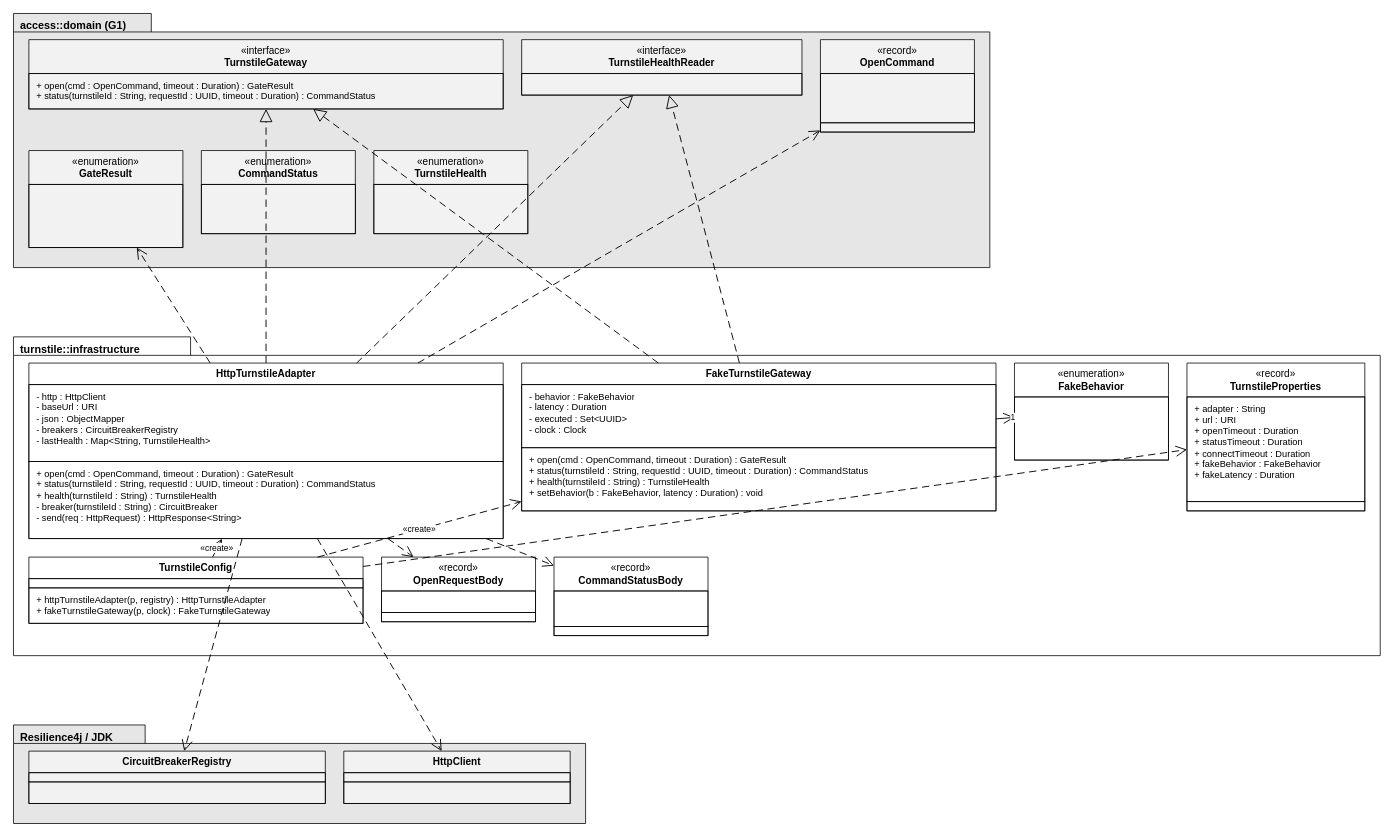
This 1394x837 diagram has some shape labels left out. The centre of each missing label's shape, as x and y in pixels:
"+ circuitBreaker(name, configName) : CircuitBreaker" goes at (x=176, y=792).
"+ executed : boolean + at : Instant [0..1]" goes at (x=630, y=608).
"+ health(turnstileId : String) : TurnstileHealth" goes at (x=661, y=84).
"+ requestId : UUID" goes at (x=458, y=601).
"+ send(req, handler) : HttpResponse<T>" goes at (x=456, y=792).
"+ turnstileId : String + requestId : UUID + stationId : String" goes at (x=897, y=98).
"EXECUTED NOT_EXECUTED UNKNOWN" goes at (x=278, y=209).
"OPEN TIMEOUT ERROR EXECUTE_THEN_TIMEOUT" goes at (x=1091, y=428).
"OPENED TIMEOUT ERROR CIRCUIT_OPEN" goes at (x=105, y=216).
"UP DOWN CIRCUIT_OPEN" goes at (x=450, y=209).
